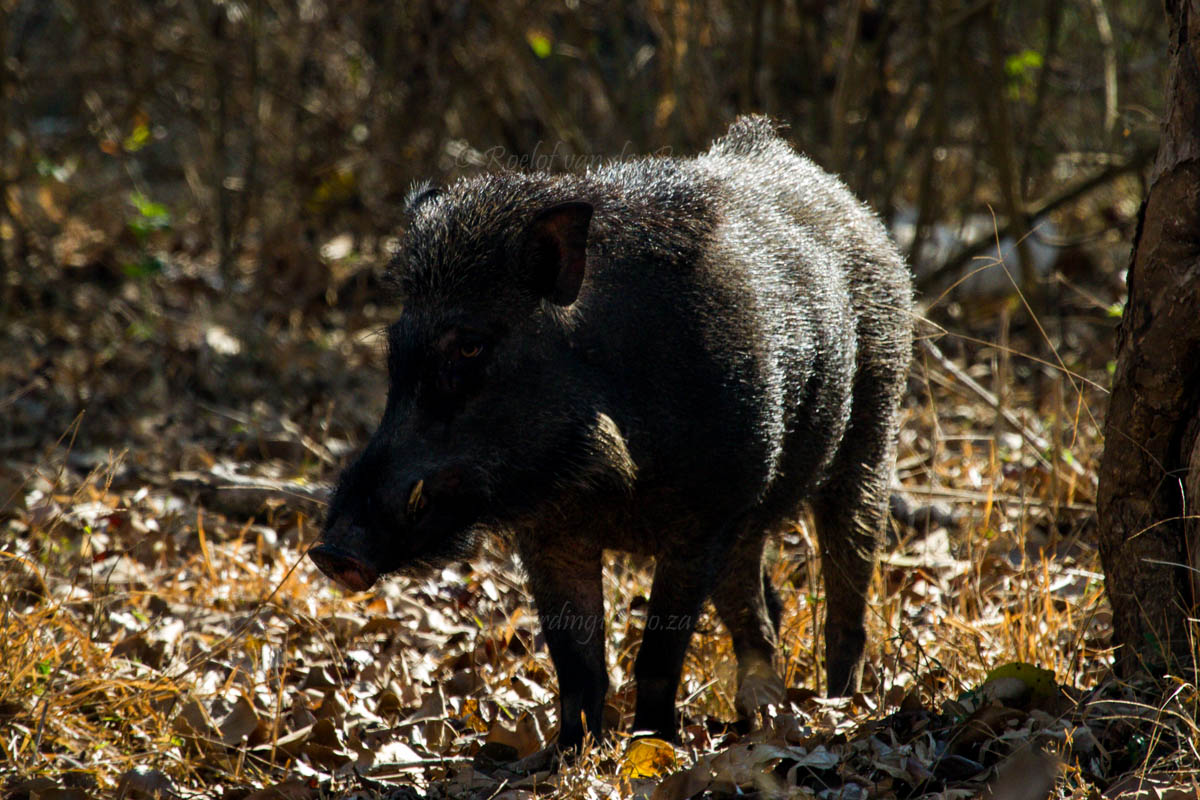wild boar: (303, 106, 945, 756)
